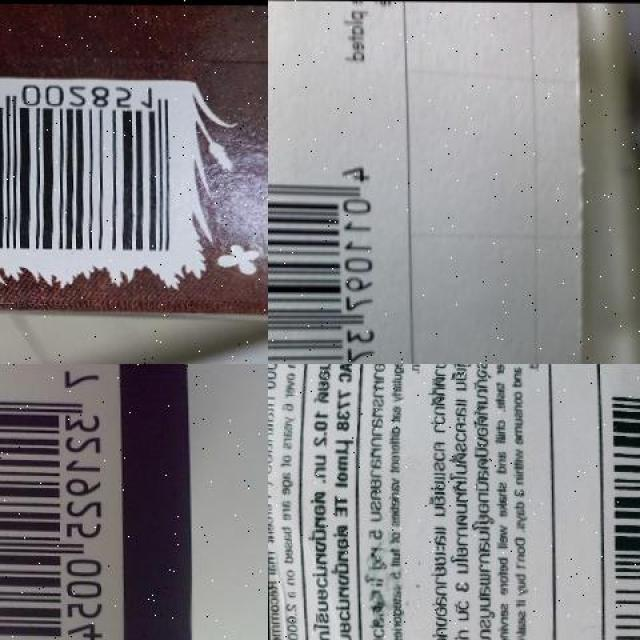Barcode: (0, 76, 197, 252), (0, 364, 120, 640), (268, 153, 401, 364), (597, 364, 640, 640)
